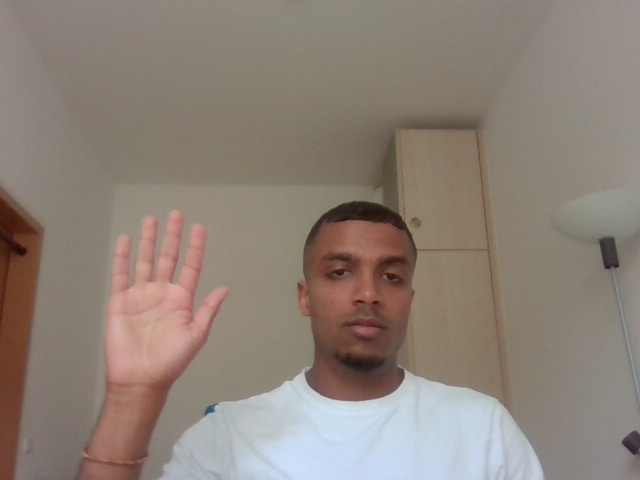never: (85, 194, 242, 399)
